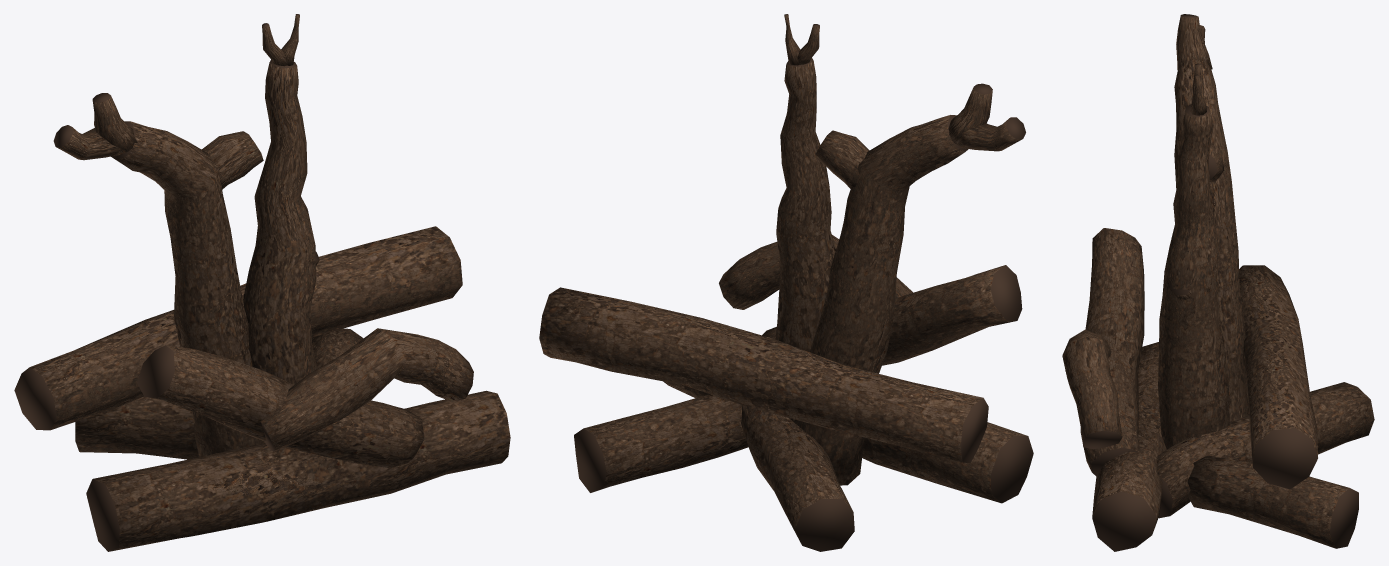
File: mm7_deco_7dec16.glb
The picture shows the model from 3 angles, left to right: view 1: azimuth 30°, elevation 25°; view 2: azimuth 150°, elevation 25°; view 3: azimuth 270°, elevation 25°; orthographic projection. The views are drawn at different scales.
Visible parts, largest first — view 1: Base; view 2: Base; view 3: Base.
Boxes of the visible parts, x1=… form: Base: x1=14, y1=14, x2=510, y2=551; Base: x1=539, y1=14, x2=1033, y2=551; Base: x1=1062, y1=14, x2=1374, y2=551.
Bounding box in the file's own units: 1.51 × 1.53 × 1.03.
1 material, 1 textured.
